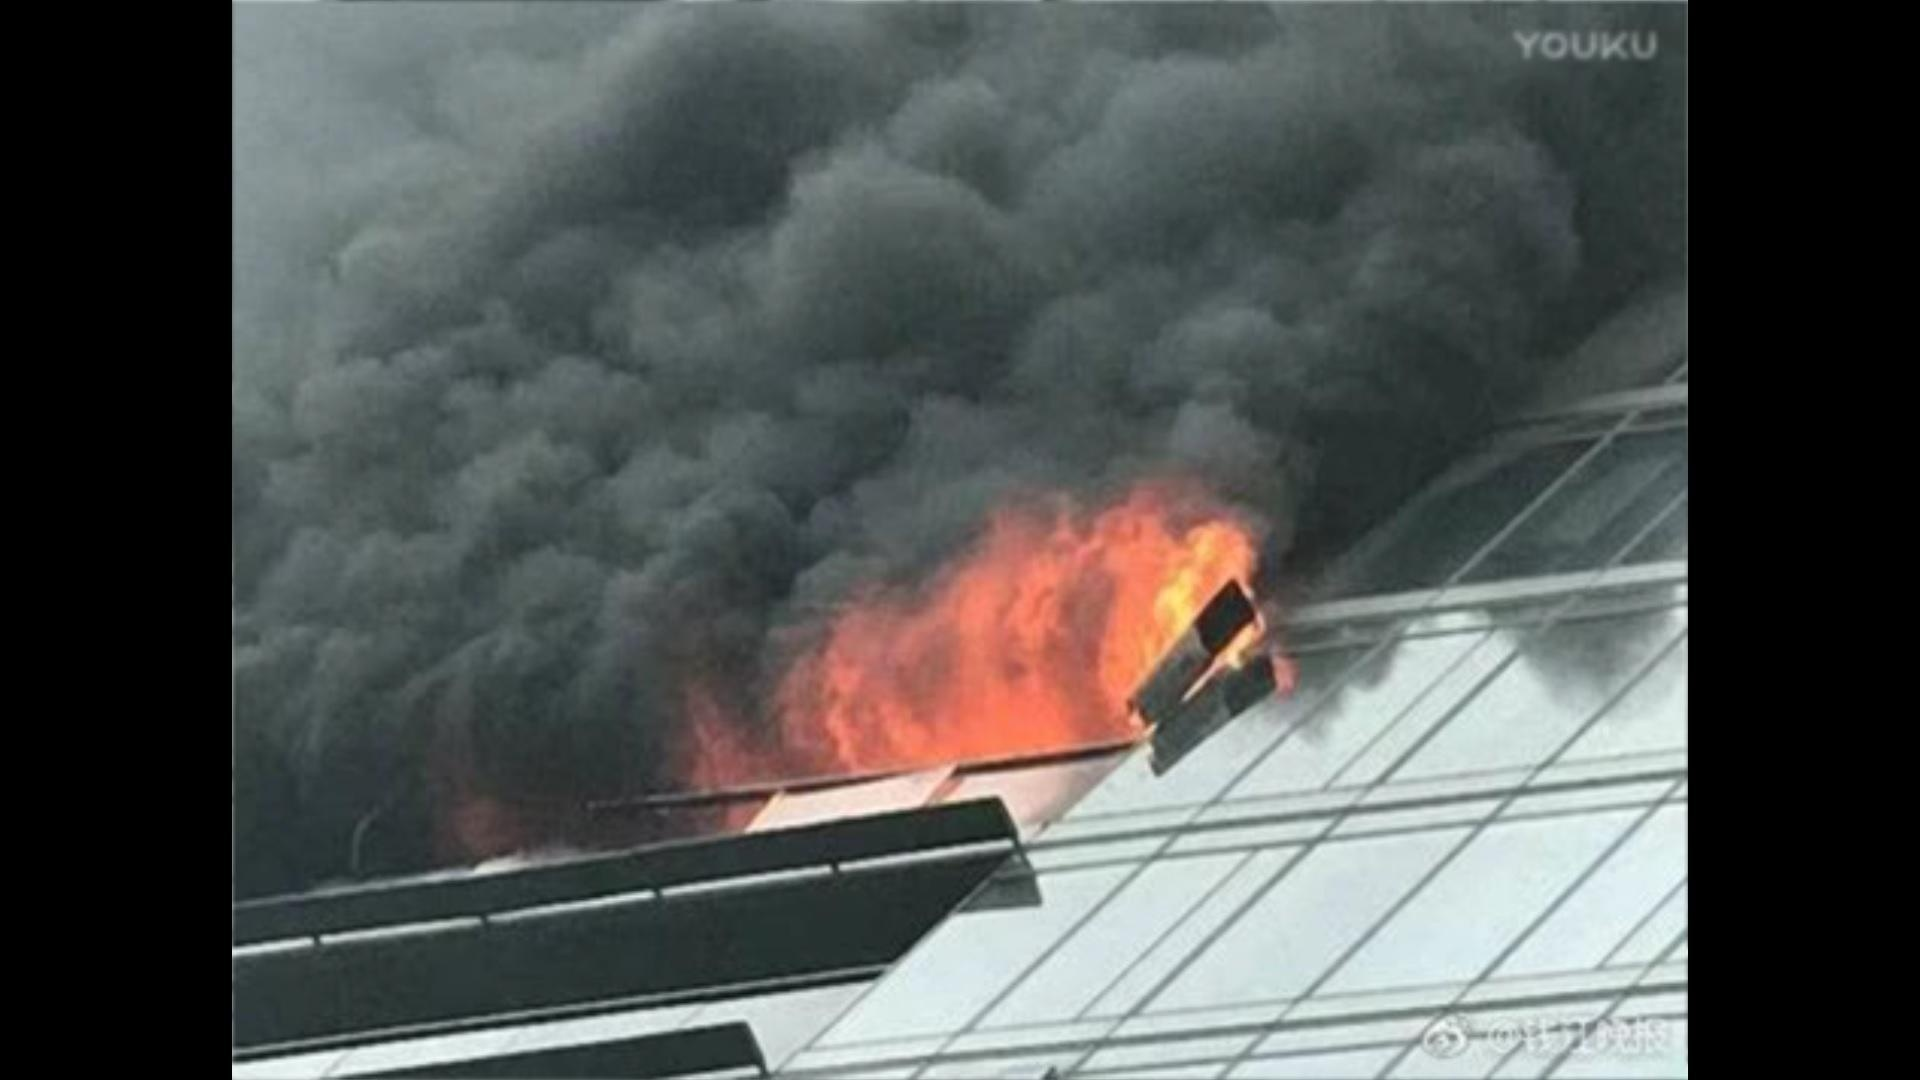fire: (760, 491, 1284, 782)
